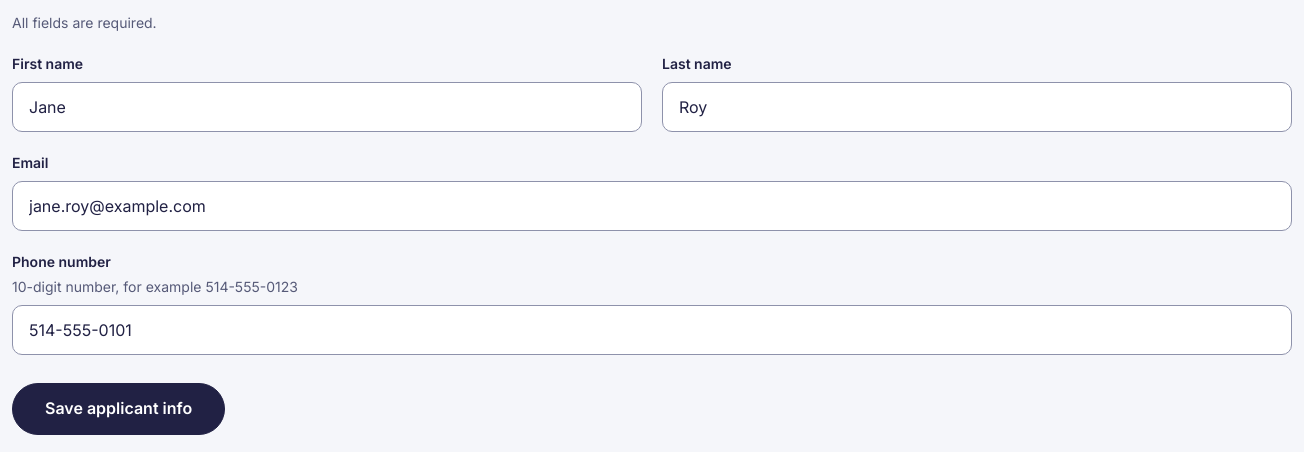
Test: ApplicantForm › tracks unsaved changes on an existing applicant
Expected: the text "Unsaved changes" is not shown
Type "-Tremblay" into the field labelled "Last name". click: (977, 107)
box: [662,82,1292,132]
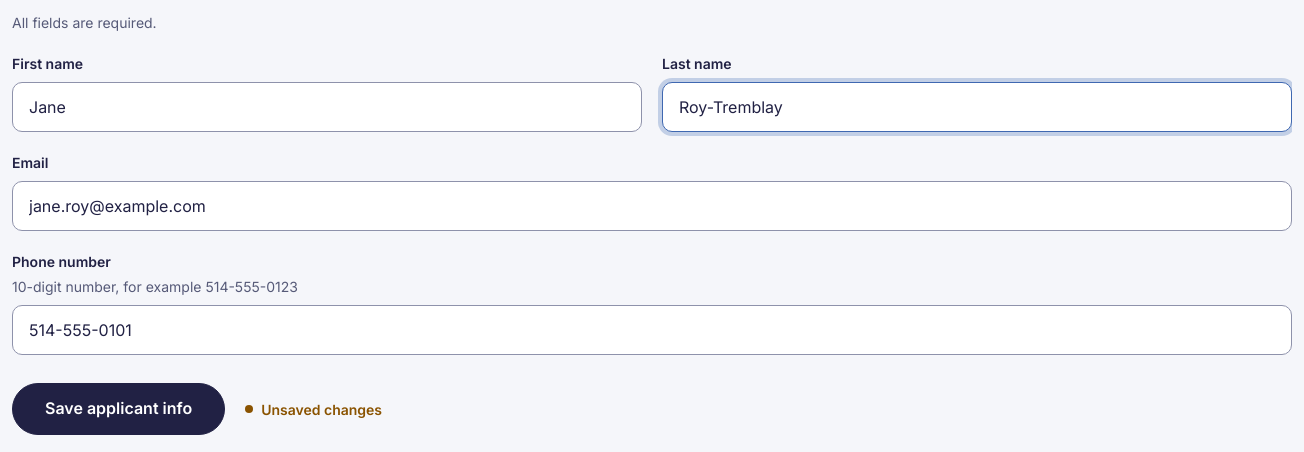
Now the text "Unsaved changes" is shown, box [245,398,382,420]
